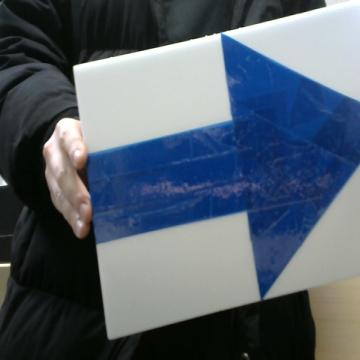blue_right: (90, 34, 359, 299)
